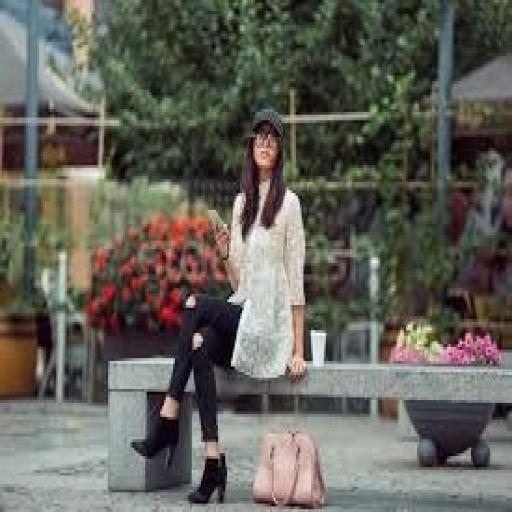texting: (128, 104, 311, 504)
